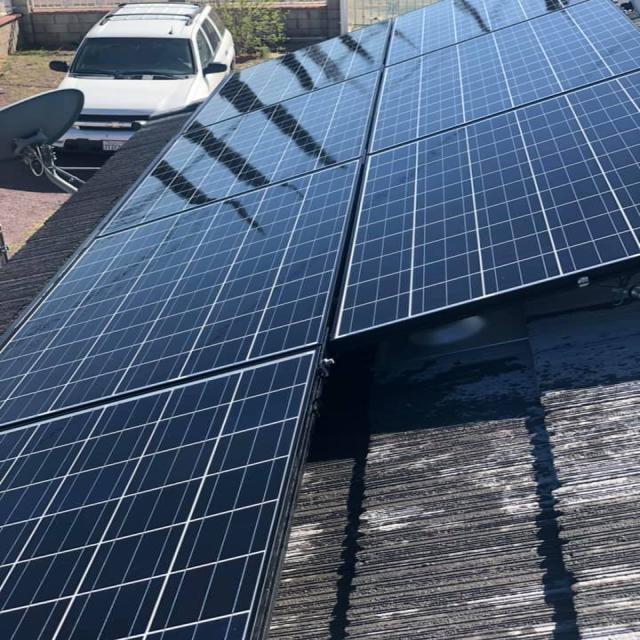clean-solar-panel: (3, 0, 638, 639)
